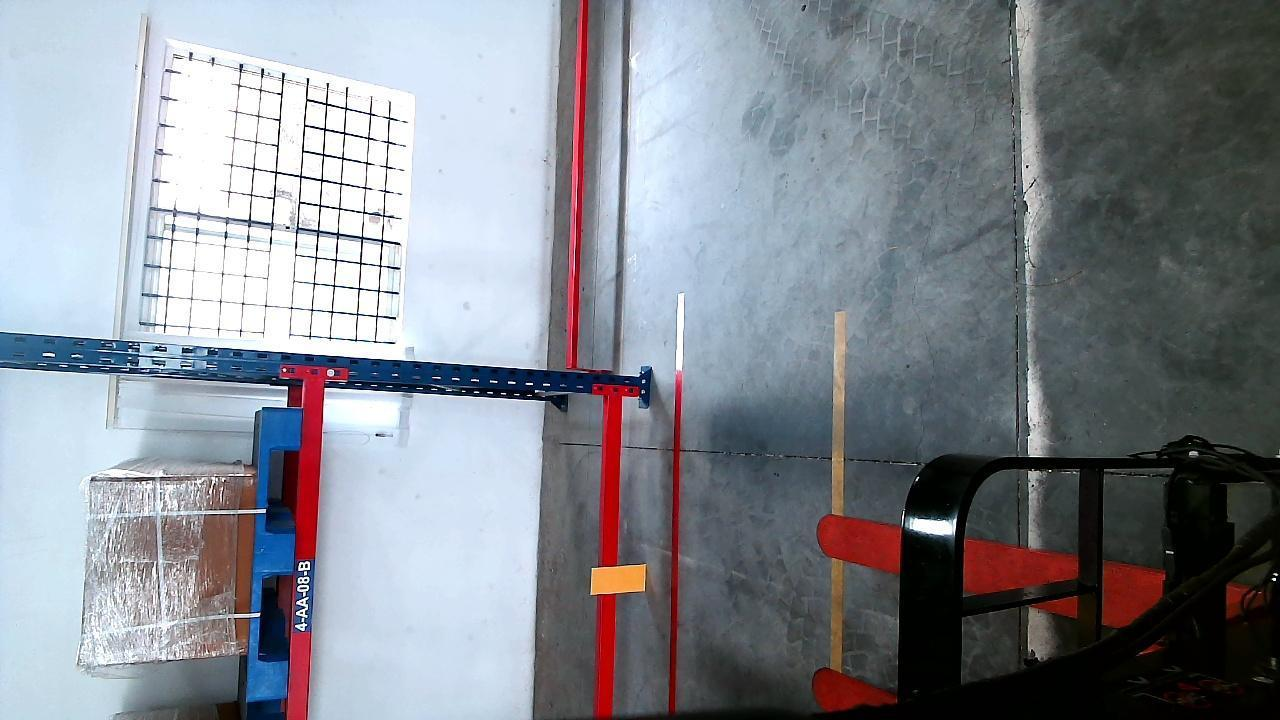h_rack: (289, 383, 329, 715), (598, 381, 626, 720)
orange_strip: (595, 563, 648, 595)
red_line: (672, 365, 688, 716)
small_pallet: (246, 420, 297, 717)
yellow_line: (824, 312, 849, 681)
